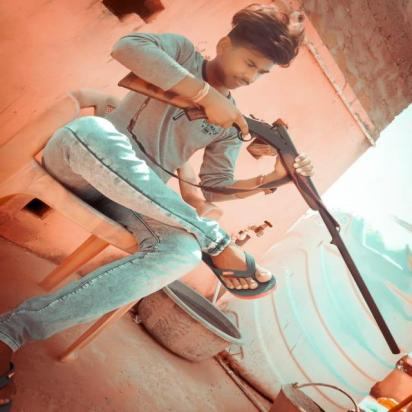Gun: (115, 59, 402, 357)
